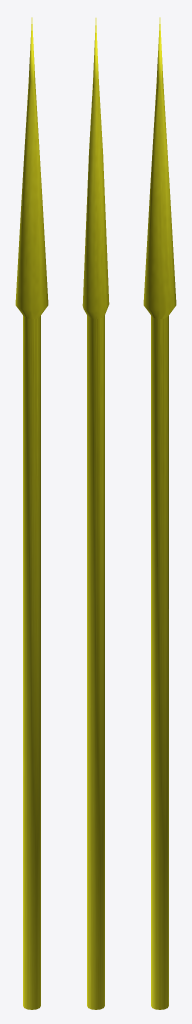
File: FalkeSpear.fbx
The picture shows the model from 3 angles, left to right: view 1: azimuth 90°, elevation 25°; view 2: azimuth 150°, elevation 25°; view 3: azimuth 270°, elevation 25°; orthographic projection.
Visible parts, largest first — view 1: Cylinder; view 2: Cylinder; view 3: Cylinder.
Boxes of the visible parts, x1,y1,x2,y2 form: Cylinder: [15, 17, 48, 1009]; Cylinder: [82, 18, 109, 1009]; Cylinder: [143, 17, 176, 1009].
Size of the model in its own units: 0.0294 by 1.32 by 0.0398.
